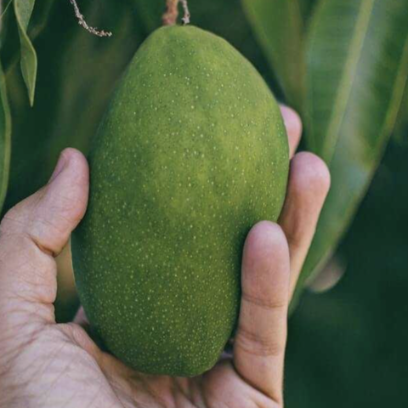mango: (31, 8, 360, 390)
